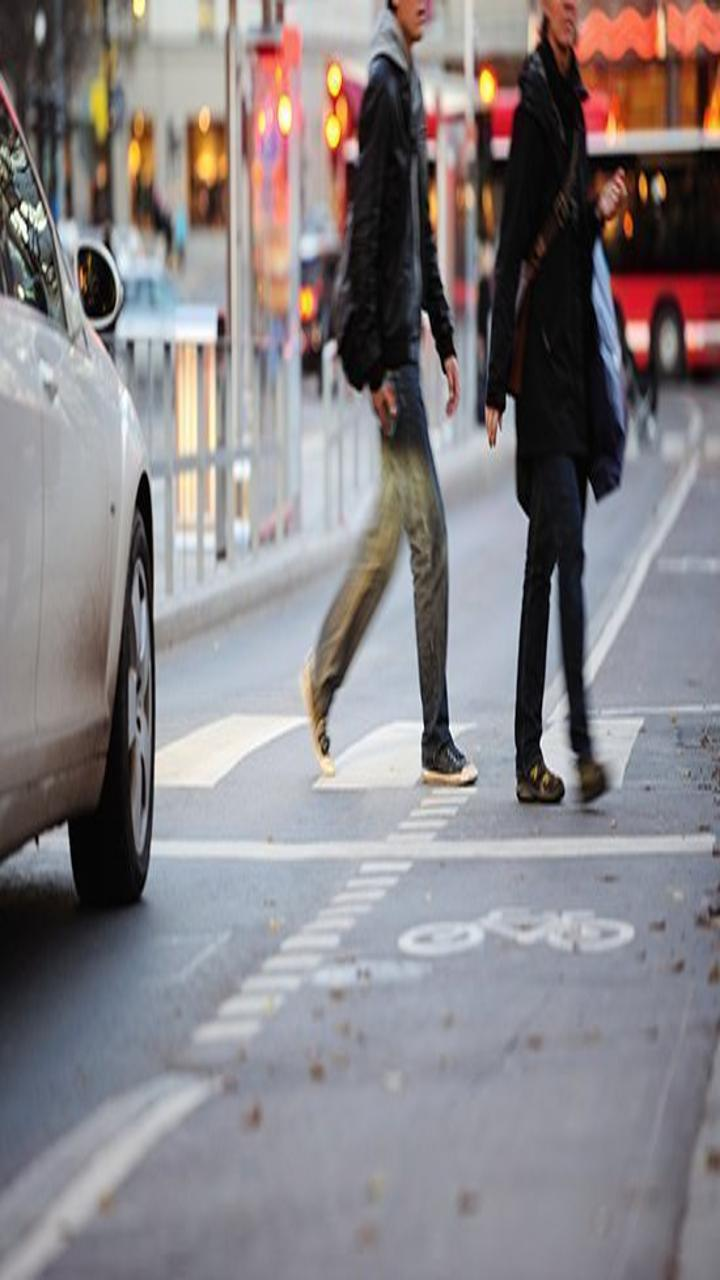pedestrian: (438, 1, 632, 824), (292, 1, 480, 803)
vehicle: (1, 76, 182, 904)
